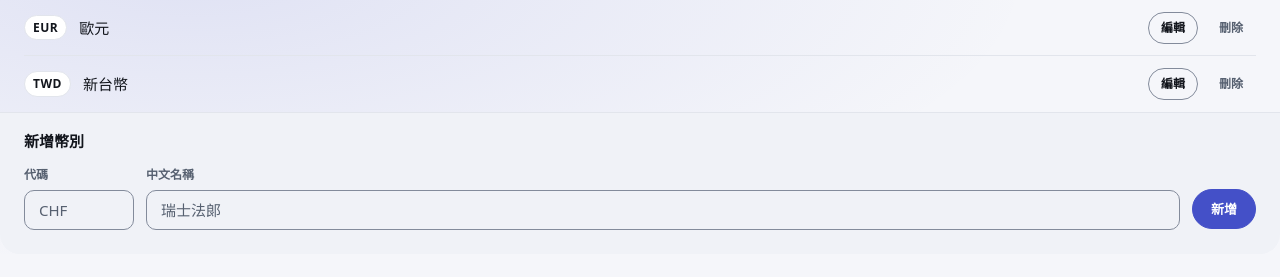
Scenario: CurrencyManager (AC11 frontend) › shows 代碼已存在 when the code is taken (409)
Type "TWD" into the field labelled "代碼" at (79, 210), box [24,190,134,230]
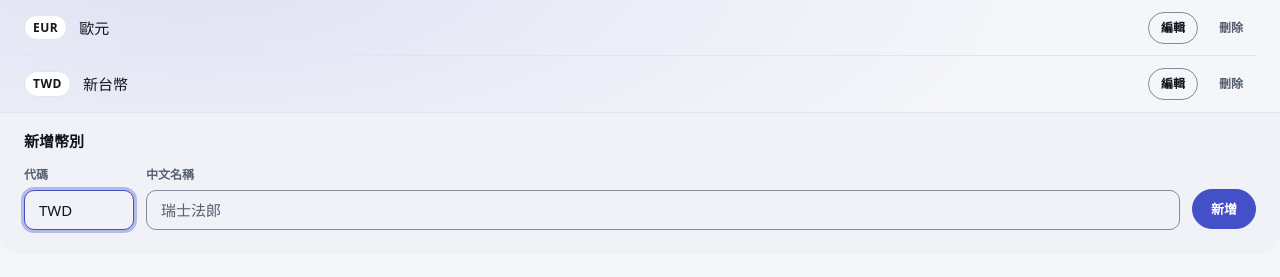
Type "重複" into the field labelled "中文名稱" at (663, 210), box [146,190,1180,230]
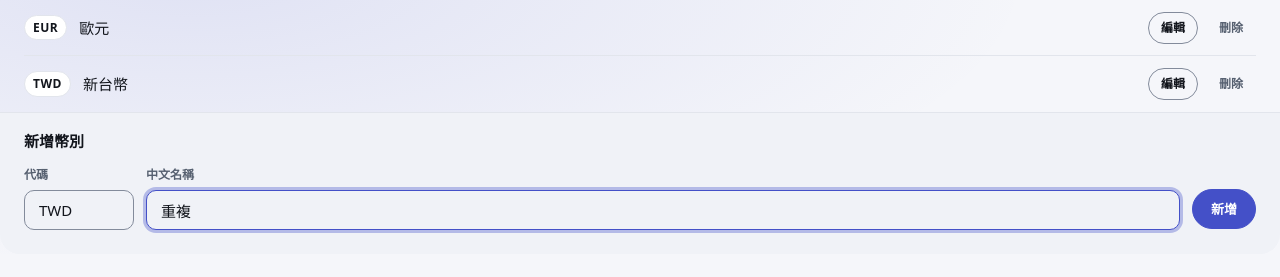
Click the button "新增" at (1224, 209), box [1192,189,1256,229]
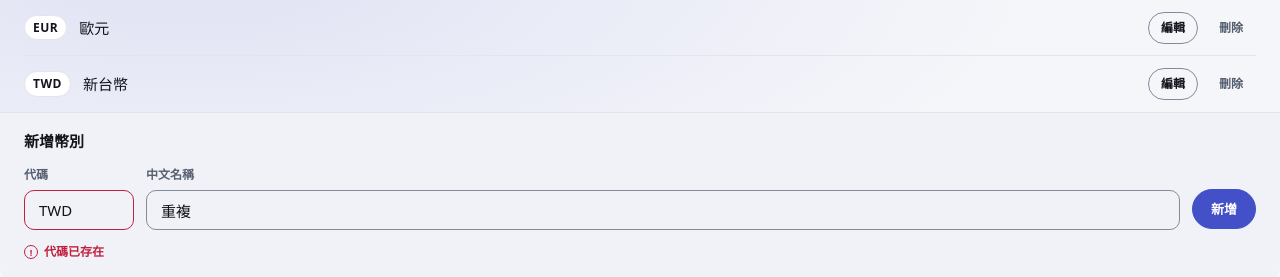
Expected: the message reads "代碼已存在", [44,243,104,260]
